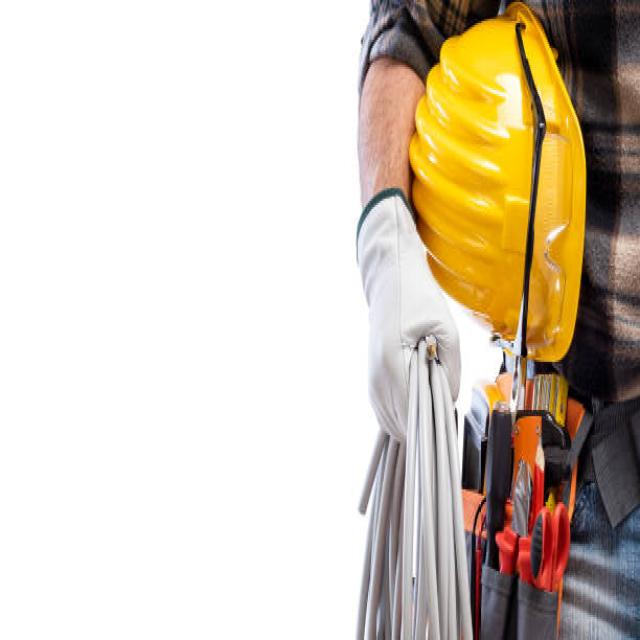gloves: (356, 188, 463, 439)
